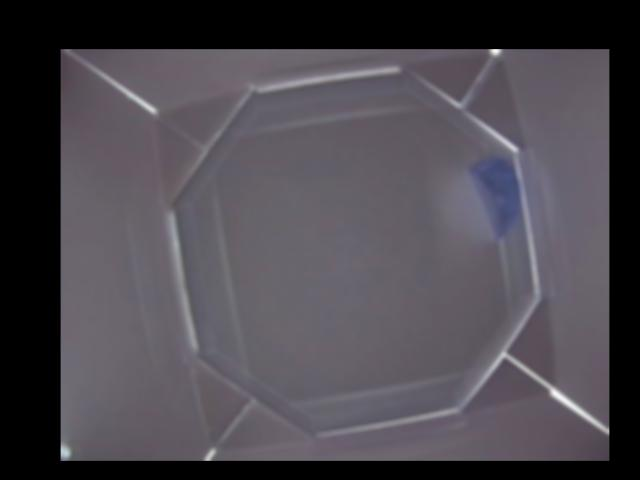Mooli: (466, 156, 521, 239)
